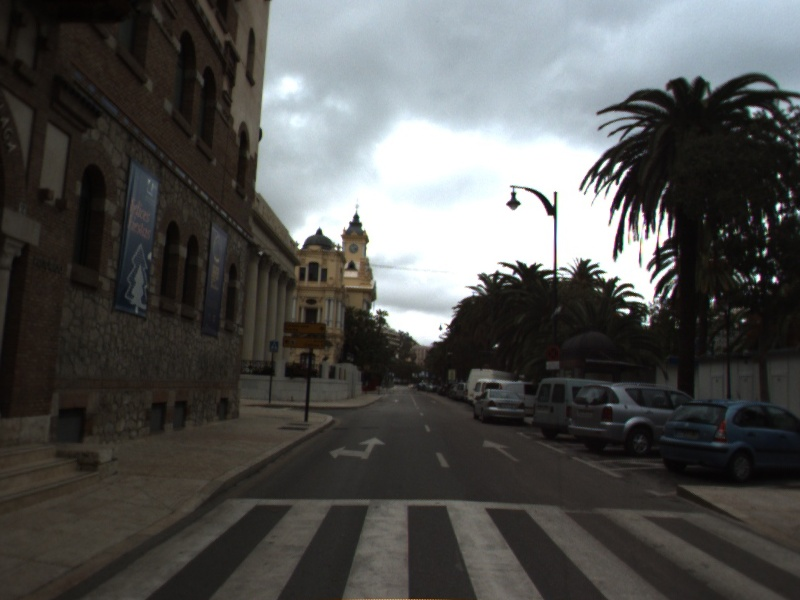STRAIGHT: (480, 437, 522, 463)
STRAIGHT_LEFT: (326, 435, 388, 461)
